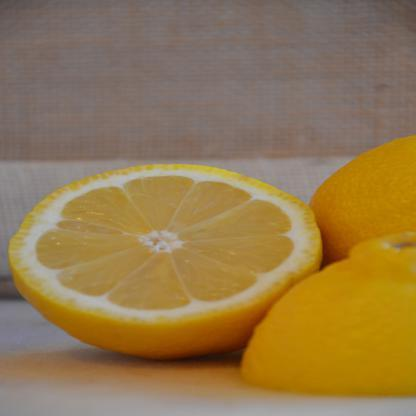lemon: (7, 160, 322, 357), (238, 230, 416, 398), (307, 132, 416, 262)
